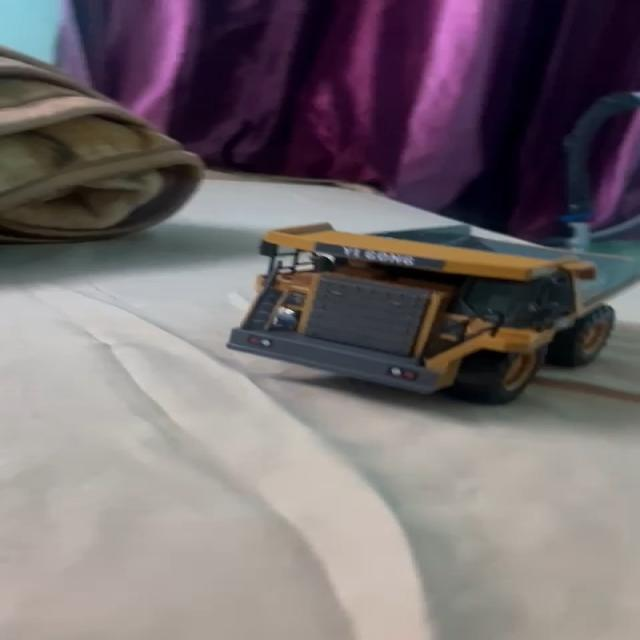dump_truck: (239, 216, 640, 394)
